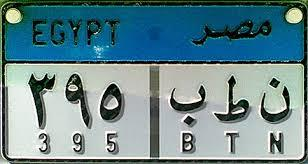3: (25, 72, 58, 130)
5: (96, 79, 129, 125)
9: (64, 72, 93, 130)
Taa: (211, 76, 253, 125)
baa: (165, 80, 209, 129)
noon: (256, 77, 296, 124)
